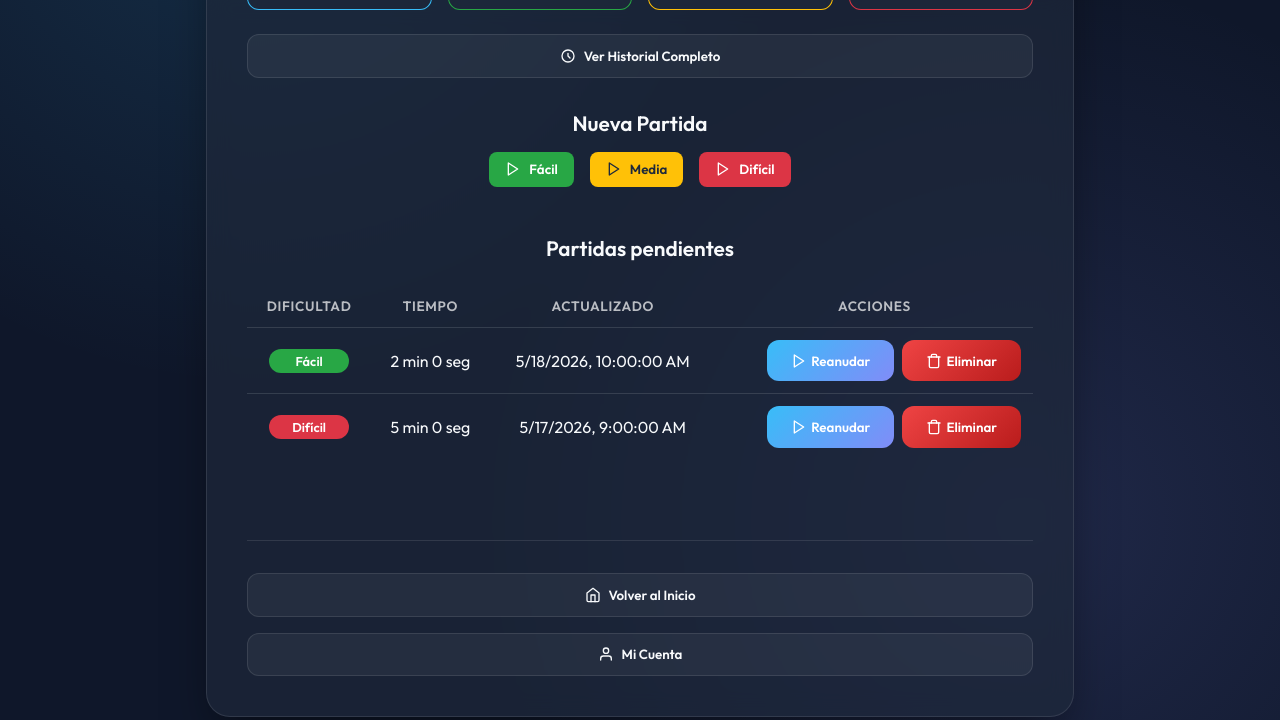
DashboardPage › abre el modal de confirmación al hacer click en Eliminar
(page scrolled)
Click the button "Eliminar" in the row of "2 min 0 seg": (962,361) left=902, top=340, right=1021, bottom=381
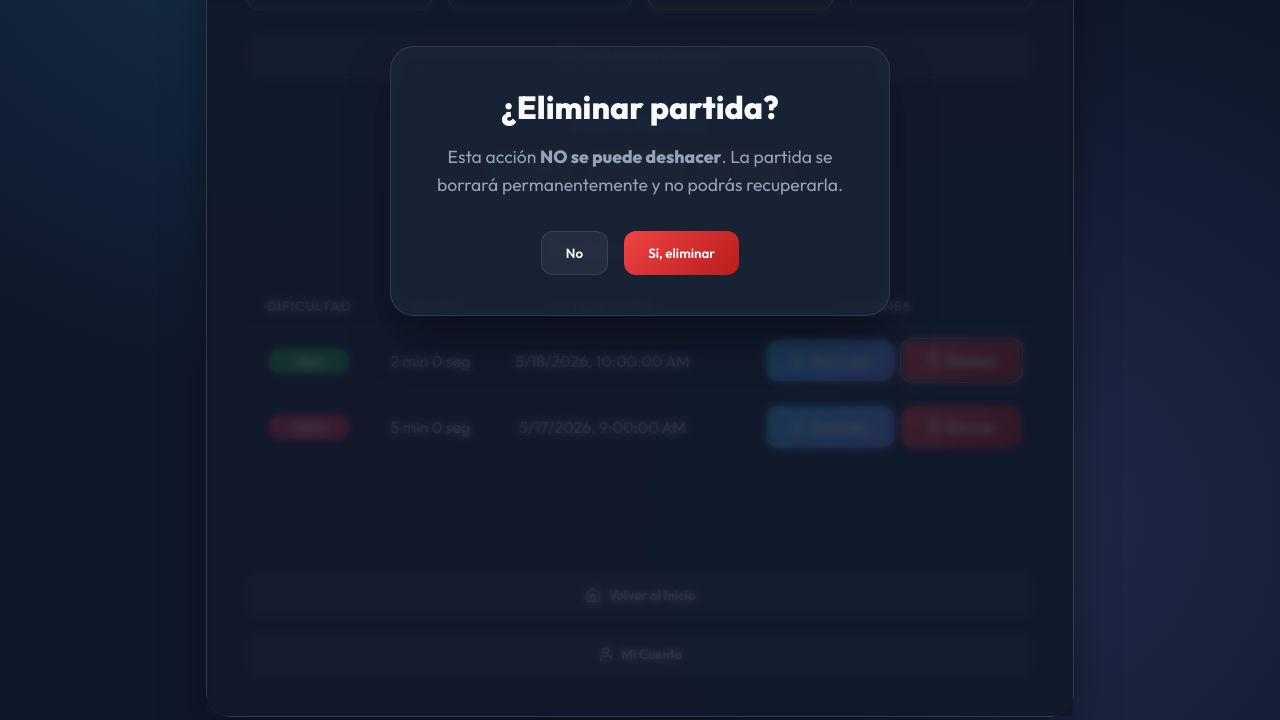
Result: the text "NO se puede deshacer" is shown at left=540, top=145, right=722, bottom=168
